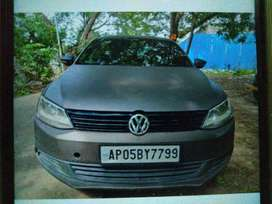AP05BY7799: (101, 145, 179, 162)
